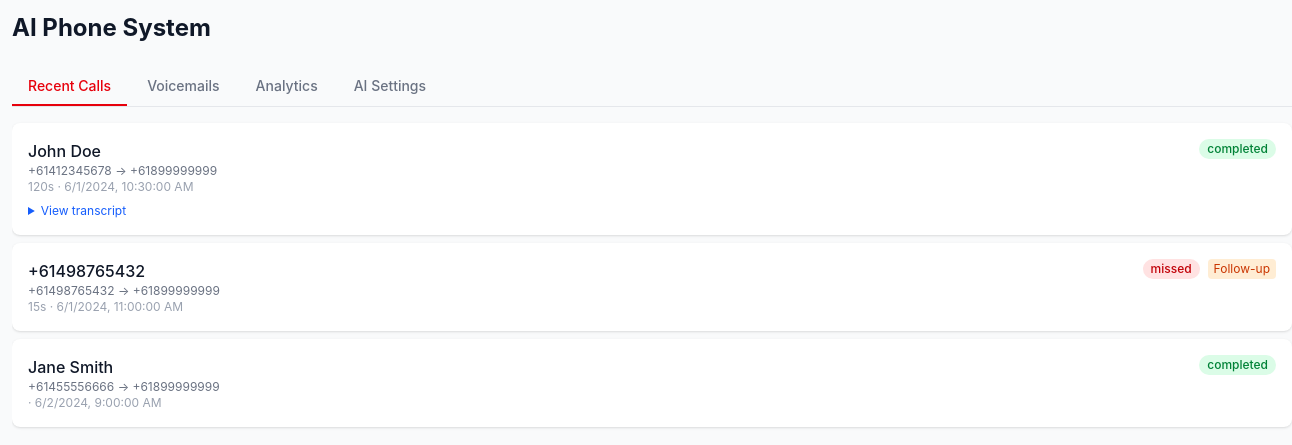
Test case: PhoneSystem Page › marks voicemail as heard on button click
Click the button "Voicemails": (183, 87) left=131, top=68, right=236, bottom=106
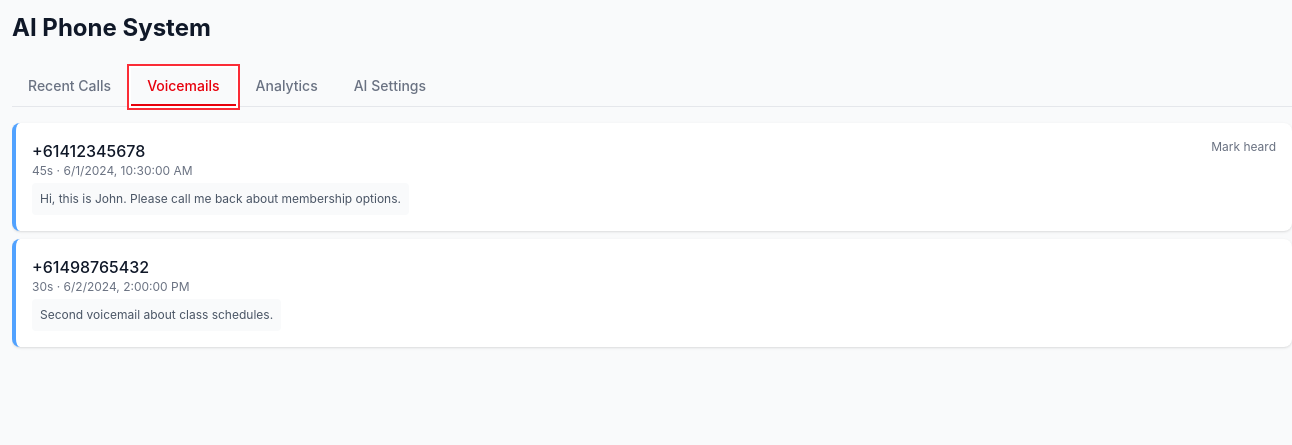
Expected: the text "+61412345678" is shown, left=32, top=141, right=145, bottom=161
Click the button "Mark heard": (1244, 147) left=1211, top=139, right=1276, bottom=155
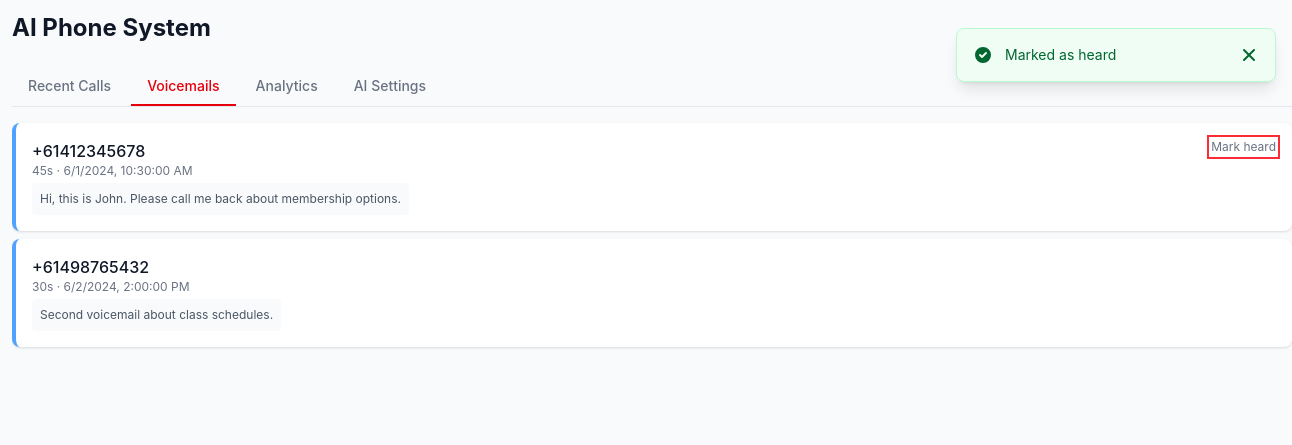
Result: the text "Marked as heard" is shown at left=1005, top=46, right=1116, bottom=63
